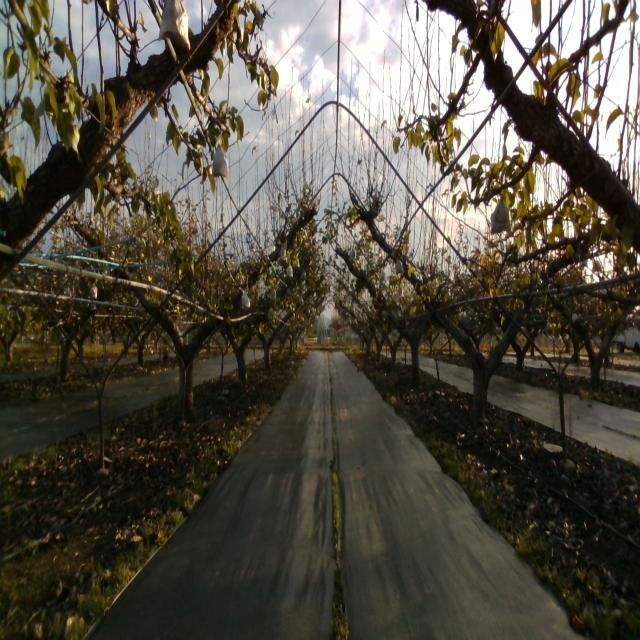pearbags: (158, 0, 192, 53), (490, 194, 512, 236), (212, 141, 229, 179)
